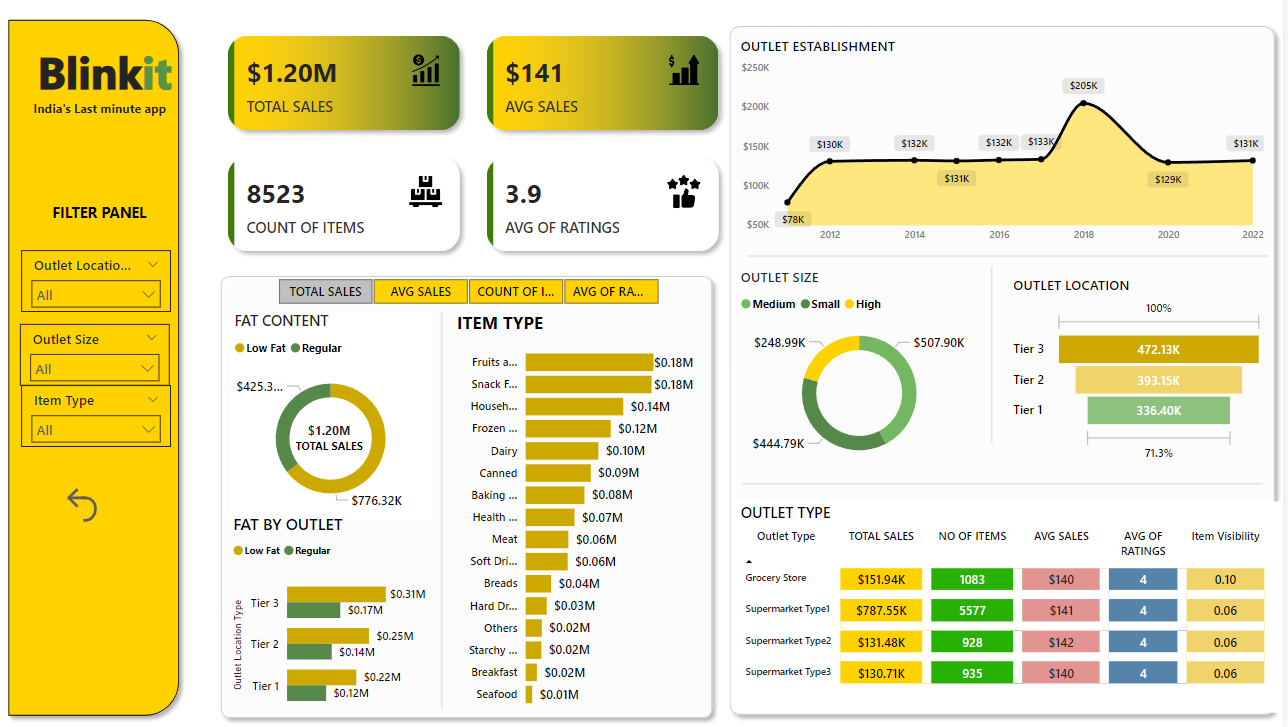

The dashboard page shown, as its layout file describes it:
{"tool":"powerbi","page":{"name":"BLINKIT DASHBOARD","canvas":[1400,800],"ordinal":0},"visuals":[{"type":"shape","box":[0,18.6,204.3,777.1],"z":0},{"type":"textbox","box":[22.5,46.5,181.6,79.5],"z":1000},{"type":"textbox","box":[31.2,110.7,163.7,31.2],"z":2000},{"type":"cardVisual","fields":{"Data":["BlinkIT Grocery Data.TOTAL SALES","BlinkIT Grocery Data.AVG","BlinkIT Grocery Data.COUNT OF ITEMS","BlinkIT Grocery Data.AVG OF RATINGS"]},"box":[232.3,28.1,570.6,270],"z":3000},{"type":"shape","box":[232,298,554,500],"z":4000},{"type":"donutChart","title":"FAT CONTENT","fields":{"Y":["BlinkIT Grocery Data.TOTAL SALES"],"Category":["BlinkIT Grocery Data.Item Fat Content"]},"box":[250.7,344.5,219.8,230.6],"z":5000},{"type":"slicer","fields":{"Values":["Metrics.Metrics"]},"box":[277.5,304.3,463.8,40.2],"z":6000},{"type":"cardVisual","fields":{"Data":["BlinkIT Grocery Data.TOTAL SALES"]},"box":[298.9,450.4,122,55],"z":7000},{"type":"clusteredBarChart","title":"FAT BY OUTLET","fields":{"Y":["BlinkIT Grocery Data.TOTAL SALES"],"Category":["BlinkIT Grocery Data.Outlet Location Type"],"Series":["BlinkIT Grocery Data.Item Fat Content"]},"box":[250,565.7,220,230],"z":8000},{"type":"shape","box":[470.5,347.2,22.8,431.6],"z":9000},{"type":"barChart","title":"ITEM TYPE","fields":{"Y":["BlinkIT Grocery Data.TOTAL SALES"],"Category":["BlinkIT Grocery Data.Item Type"]},"box":[493.3,344.5,268.1,443.7],"z":10000},{"type":"shape","box":[786.9,25.5,612.6,769.4],"z":11000},{"type":"lineChart","title":"OUTLET ESTABLISHMENT","fields":{"Y":["BlinkIT Grocery Data.TOTAL SALES"],"Category":["BlinkIT Grocery Data.Outlet Establishment Year"]},"box":[803,46.9,580.4,233.2],"z":12000},{"type":"donutChart","title":"OUTLET SIZE","fields":{"Y":["BlinkIT Grocery Data.TOTAL SALES"],"Category":["BlinkIT Grocery Data.Outlet Size"]},"box":[802.9,298.6,268.6,225.7],"z":13000},{"type":"shape","box":[815.7,264.3,567.1,42.9],"z":14000},{"type":"shape","box":[1071.1,297.6,20.1,193],"z":15000},{"type":"funnel","title":"OUTLET LOCATION","fields":{"Y":["Sum(BlinkIT Grocery Data.Sales)"],"Category":["BlinkIT Grocery Data.Outlet Location Type"]},"box":[1100,307.1,282.9,208.6],"z":16000},{"type":"shape","box":[810,512.9,567.1,42.9],"z":17000},{"type":"pivotTable","title":"OUTLET TYPE","fields":{"Rows":["BlinkIT Grocery Data.Outlet Type"],"Values":["BlinkIT Grocery Data.TOTAL SALES","BlinkIT Grocery Data.COUNT OF ITEMS","BlinkIT Grocery Data.AVG SALES","BlinkIT Grocery Data.AVG OF RATINGS","Avg(BlinkIT Grocery Data.Item Visibility)"]},"box":[802.9,552.9,597.1,230],"z":18000},{"type":"slicer","fields":{"Values":["BlinkIT Grocery Data.Outlet Location Type"]},"box":[22.9,280,162.9,67.1],"z":19000},{"type":"slicer","fields":{"Values":["BlinkIT Grocery Data.Outlet Size"]},"box":[21.4,360,162.9,67.1],"z":20000},{"type":"slicer","fields":{"Values":["BlinkIT Grocery Data.Item Type"]},"box":[22.9,427.1,162.9,67.1],"z":21000},{"type":"textbox","box":[31.4,222.9,154.3,41.4],"z":22000},{"type":"actionButton","box":[65.7,533.5,100.5,48.3],"z":23000}]}

Visuals, with their boxes in screenshot pixels (x1, y1, x2, y2), scaled from the page's 1400x800 canvas onto the 1288x727 screenshot:
shape: 0:17:188:723
textbox: 21:42:188:115
textbox: 29:101:179:129
cardVisual - BlinkIT Grocery Data.TOTAL SALES x BlinkIT Grocery Data.AVG: 214:26:739:271
shape: 213:271:723:725
"FAT CONTENT" donutChart: 231:313:433:523
slicer - Metrics.Metrics: 255:277:682:313
cardVisual - BlinkIT Grocery Data.TOTAL SALES: 275:409:387:459
"FAT BY OUTLET" clusteredBarChart: 230:514:432:723
shape: 433:316:454:708
"ITEM TYPE" barChart: 454:313:700:716
shape: 724:23:1287:722
"OUTLET ESTABLISHMENT" lineChart: 739:43:1273:255
"OUTLET SIZE" donutChart: 739:271:986:476
shape: 750:240:1272:279
shape: 985:270:1004:446
"OUTLET LOCATION" funnel: 1012:279:1272:469
shape: 745:466:1267:505
"OUTLET TYPE" pivotTable: 739:502:1287:711
slicer - BlinkIT Grocery Data.Outlet Location Type: 21:254:171:315
slicer - BlinkIT Grocery Data.Outlet Size: 20:327:170:388
slicer - BlinkIT Grocery Data.Item Type: 21:388:171:449
textbox: 29:203:171:240
actionButton: 60:485:153:529
